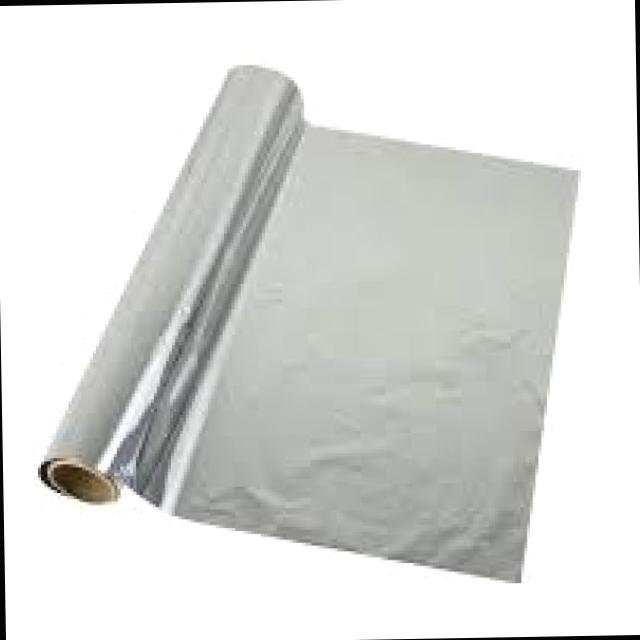kim_loai: (38, 65, 580, 583)
